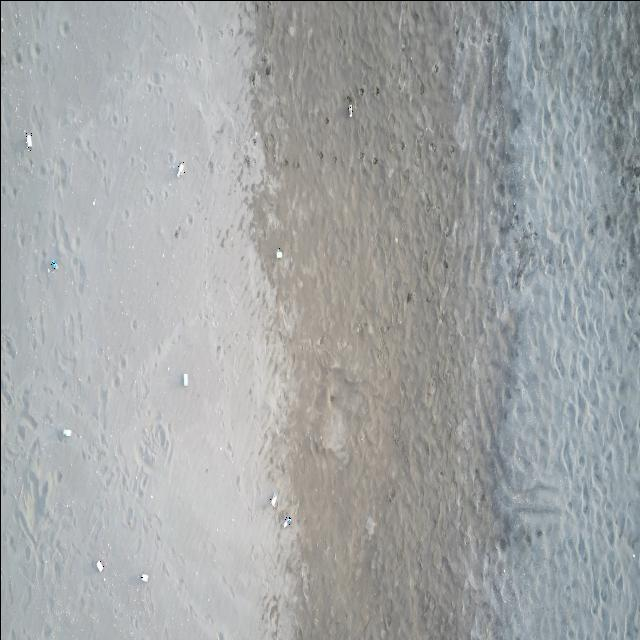Garbage: (268, 492, 276, 507), (176, 161, 184, 176), (25, 131, 31, 148), (283, 516, 291, 527), (96, 560, 103, 572), (140, 573, 148, 582), (51, 259, 57, 270), (347, 103, 352, 116), (276, 247, 281, 259), (63, 428, 71, 435), (183, 372, 187, 386)
